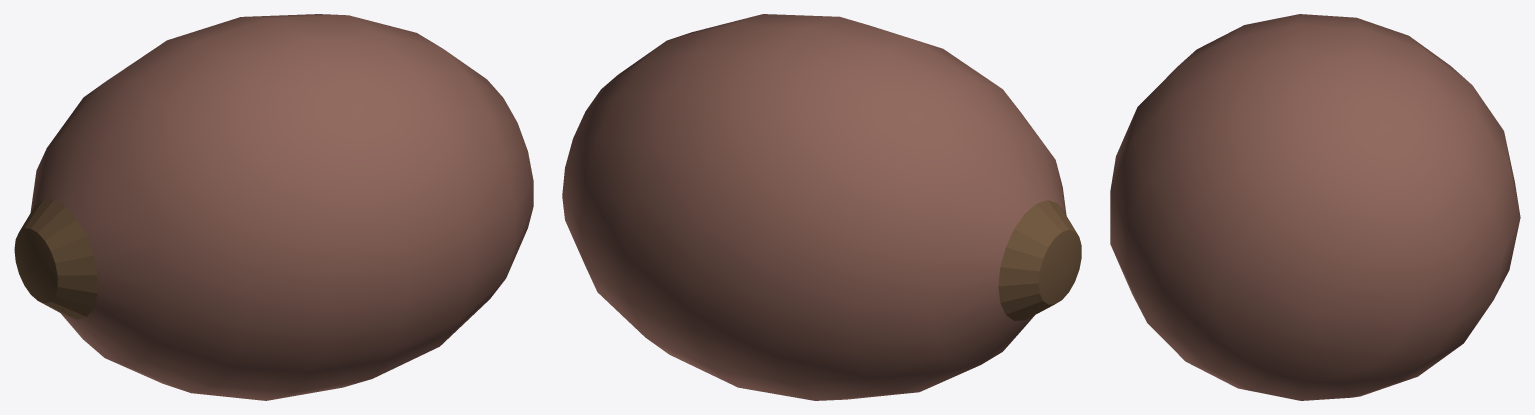
The model's file is kiwi.fbx.
3 views of the same model, side by side, from view 1: azimuth 30°, elevation 25°; view 2: azimuth 150°, elevation 25°; view 3: azimuth 270°, elevation 25° (orthographic). The views are drawn at different scales.
Visible parts, largest first — view 1: Sphere001; view 2: Sphere001; view 3: Sphere001.
Part boxes in pixels (box(x1,y1,x2,y2)): Sphere001: box(14, 14, 533, 400); Sphere001: box(562, 14, 1081, 400); Sphere001: box(1110, 14, 1520, 400).
Bounding box in the file's own units: 2849 × 1901 × 2187.
